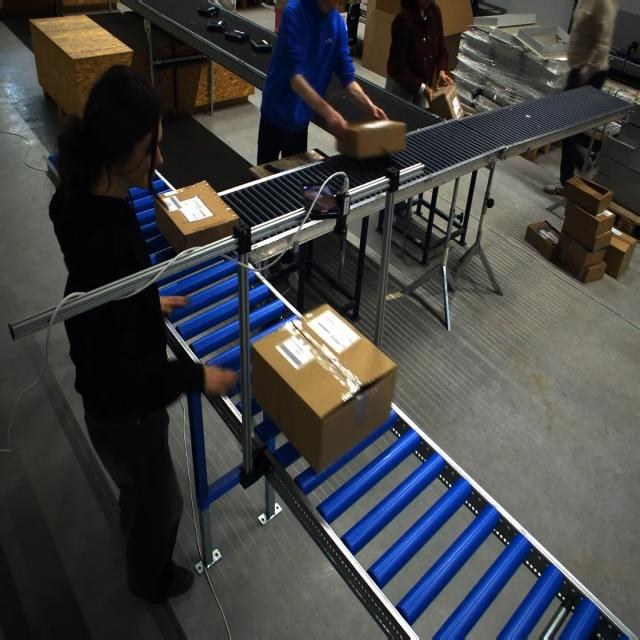box: (251, 308, 385, 472), (153, 181, 238, 255), (340, 118, 399, 159), (427, 83, 464, 122)
product: (225, 29, 249, 43), (250, 37, 272, 52), (197, 5, 219, 17), (206, 19, 226, 32)
